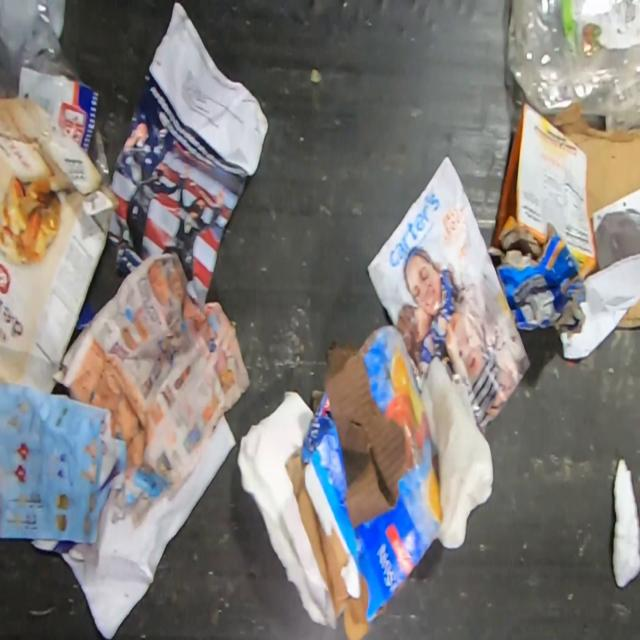cardboard: (285, 324, 443, 640), (0, 100, 114, 400), (546, 100, 640, 328), (491, 98, 597, 278), (486, 223, 588, 333)
rigid_plastic: (506, 0, 640, 131)
